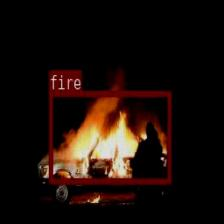fire: (48, 90, 170, 183)
